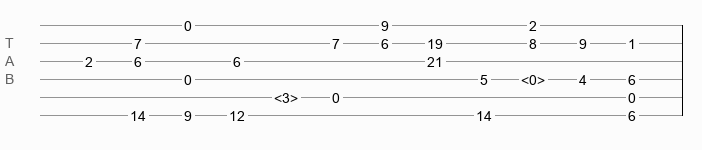0: (184, 18, 192, 28), (184, 72, 192, 82), (332, 90, 340, 100), (628, 90, 636, 100)
1: (628, 36, 636, 46)
12: (229, 108, 245, 118)
14: (130, 108, 146, 118), (476, 108, 492, 118)
19: (427, 36, 443, 46)
2: (85, 54, 93, 64), (529, 18, 537, 28)
21: (427, 54, 443, 64)
4: (579, 72, 587, 82)
5: (480, 72, 488, 82)
6: (134, 54, 142, 64), (233, 54, 241, 64), (381, 36, 389, 46), (628, 108, 636, 118), (628, 72, 636, 82)
7: (134, 36, 142, 46), (332, 36, 340, 46)
8: (529, 36, 537, 46)
9: (184, 108, 192, 118), (381, 18, 389, 28), (579, 36, 587, 46)
harmonic: (274, 90, 298, 100), (521, 72, 545, 82)
